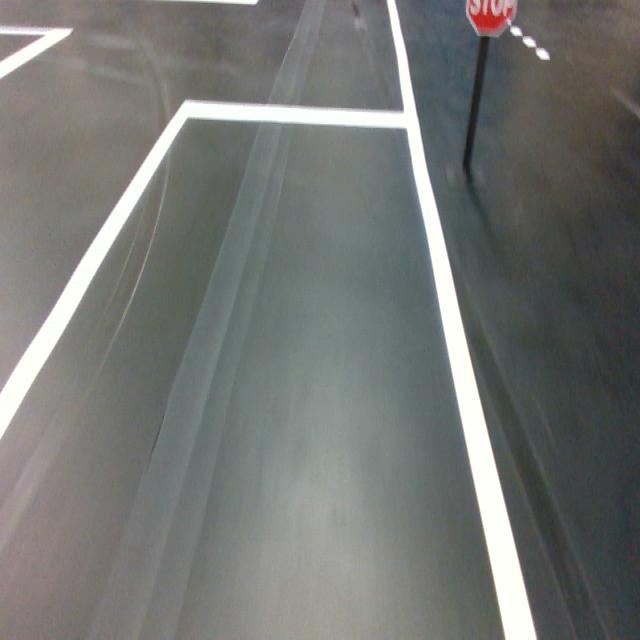stop-sign: (465, 0, 516, 37)
